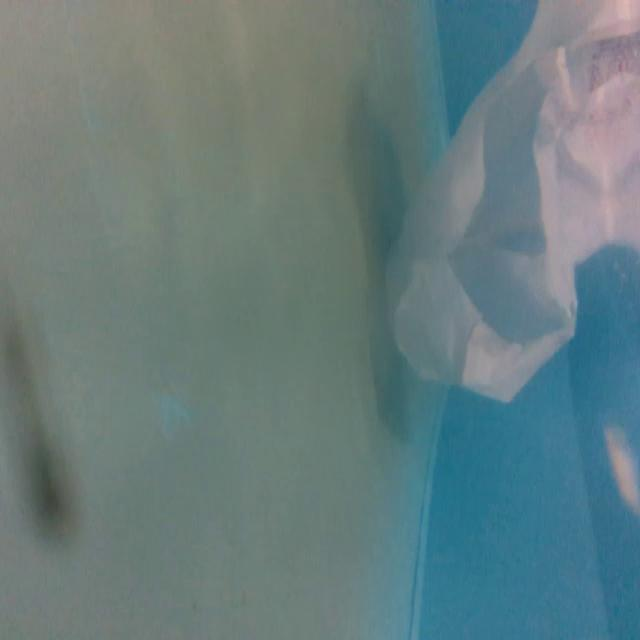plastic bags: (369, 1, 639, 414)
